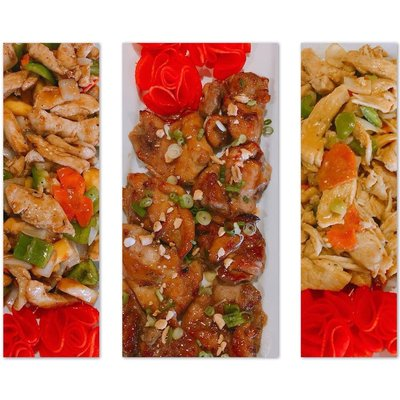sandwich: (122, 44, 275, 359)
